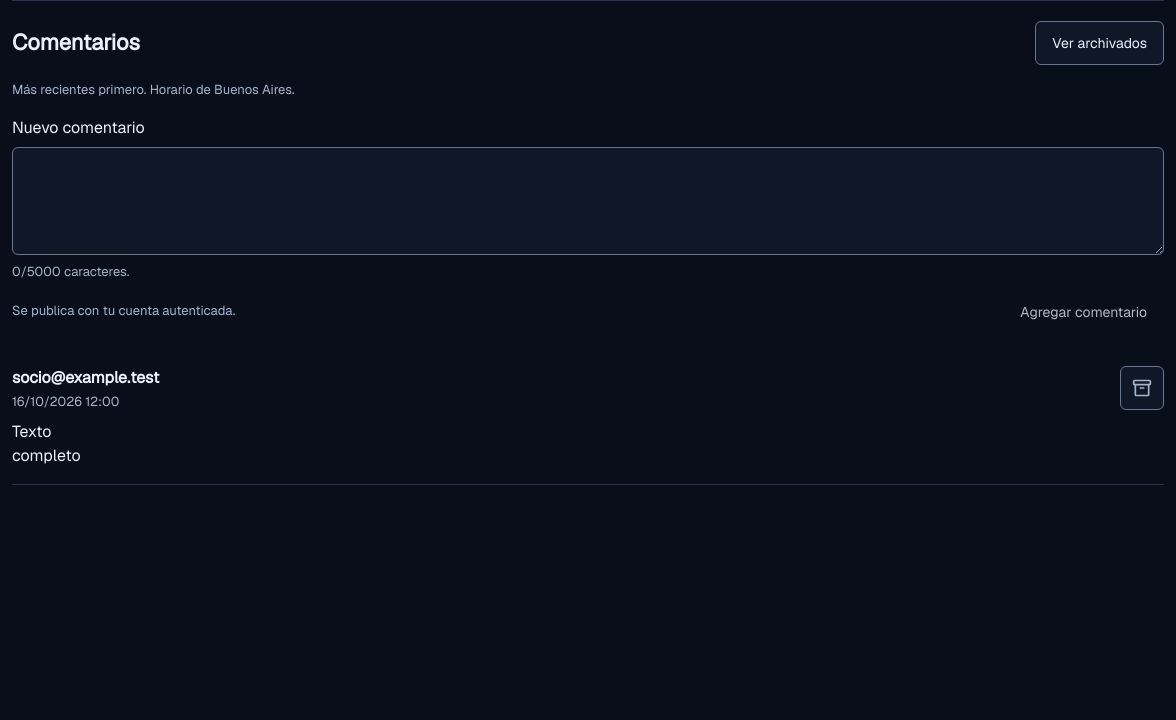
Scenario: comment interface › preserves archive intention through uncertain retry and refreshes instead of trusting an old receipt
The image size is (1176, 720).
Click the button named "Archivar comentario" at coordinates (1142, 388), box [1120,366,1164,410]
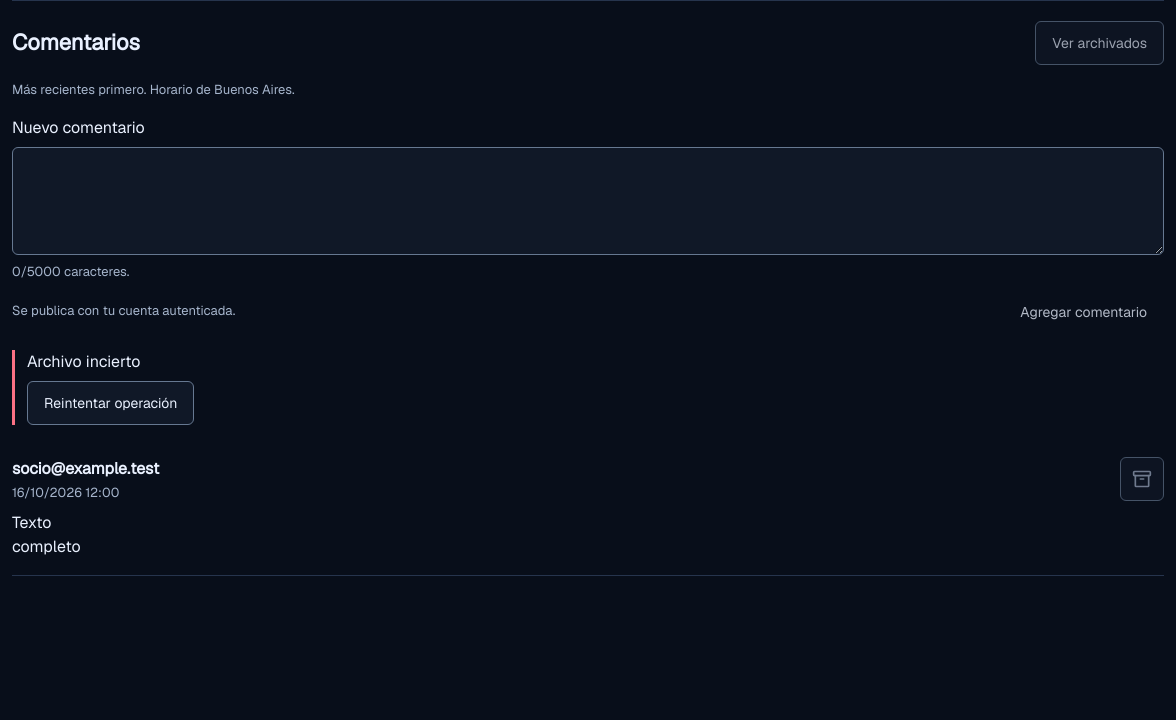
expect the message shows "Archivo incierto": met, box [27,351,140,372]
Click the button "Reintentar operación" at coordinates (111, 403), box [27,381,194,425]
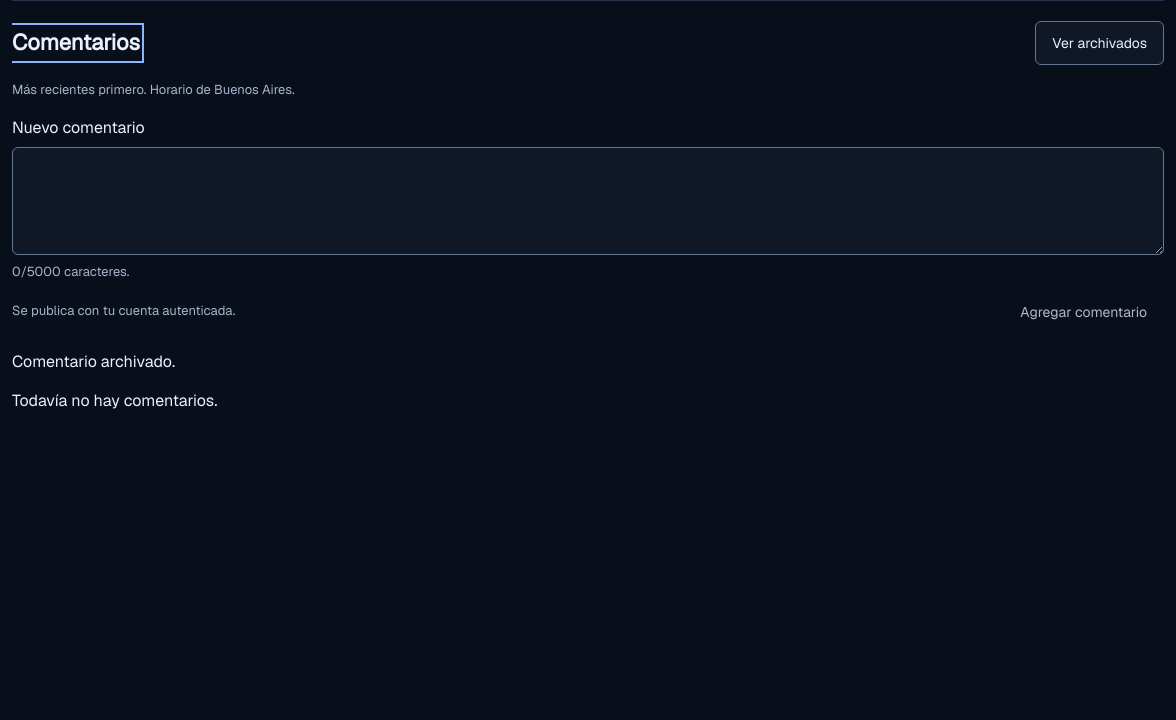
expect the text "Todavía no hay comentarios." is shown: met, box [12,390,217,411]
expect the text "socio@example.test" is gone: met
